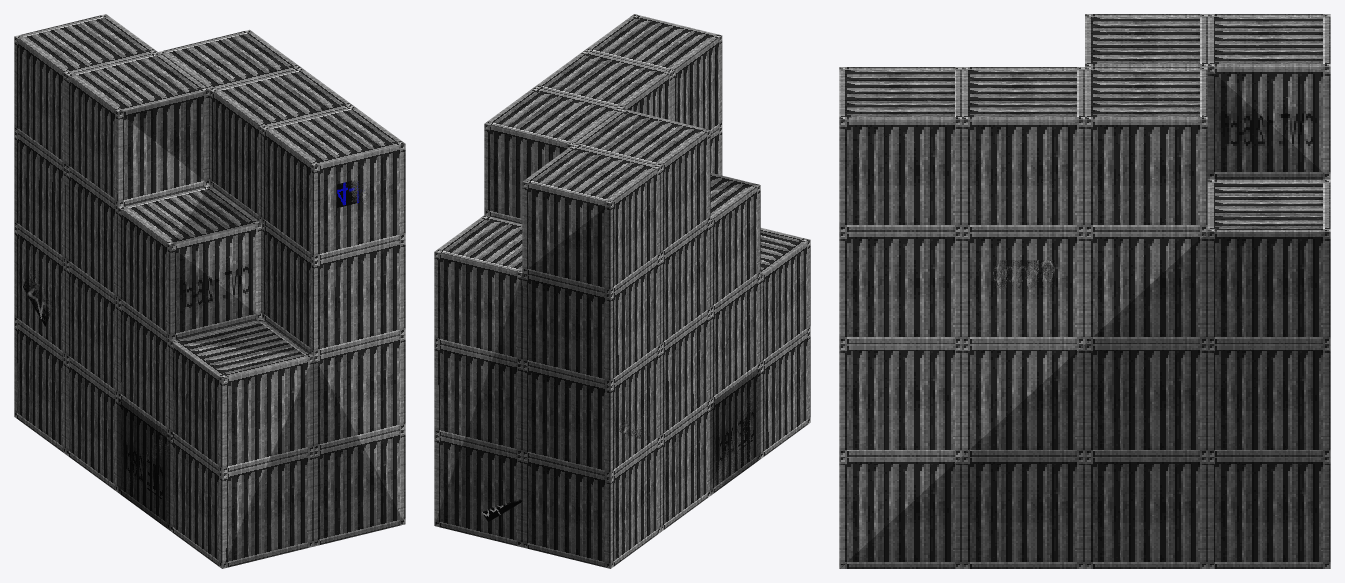
Rendered from primary_099.glb.
The picture shows the model from 3 angles, left to right: view 1: azimuth 30°, elevation 25°; view 2: azimuth 150°, elevation 25°; view 3: azimuth 270°, elevation 25°; orthographic projection. The views are drawn at different scales.
Visible parts, largest first — view 1: Object; view 2: Object; view 3: Object.
Boxes of the visible parts, bbox=[...] form: Object: bbox=[14, 14, 405, 568]; Object: bbox=[434, 14, 810, 568]; Object: bbox=[839, 14, 1330, 568].
Bounding box in the file's own units: 2.95 × 5.85 × 5.8.
Materials: 8 (8 with a texture image).
